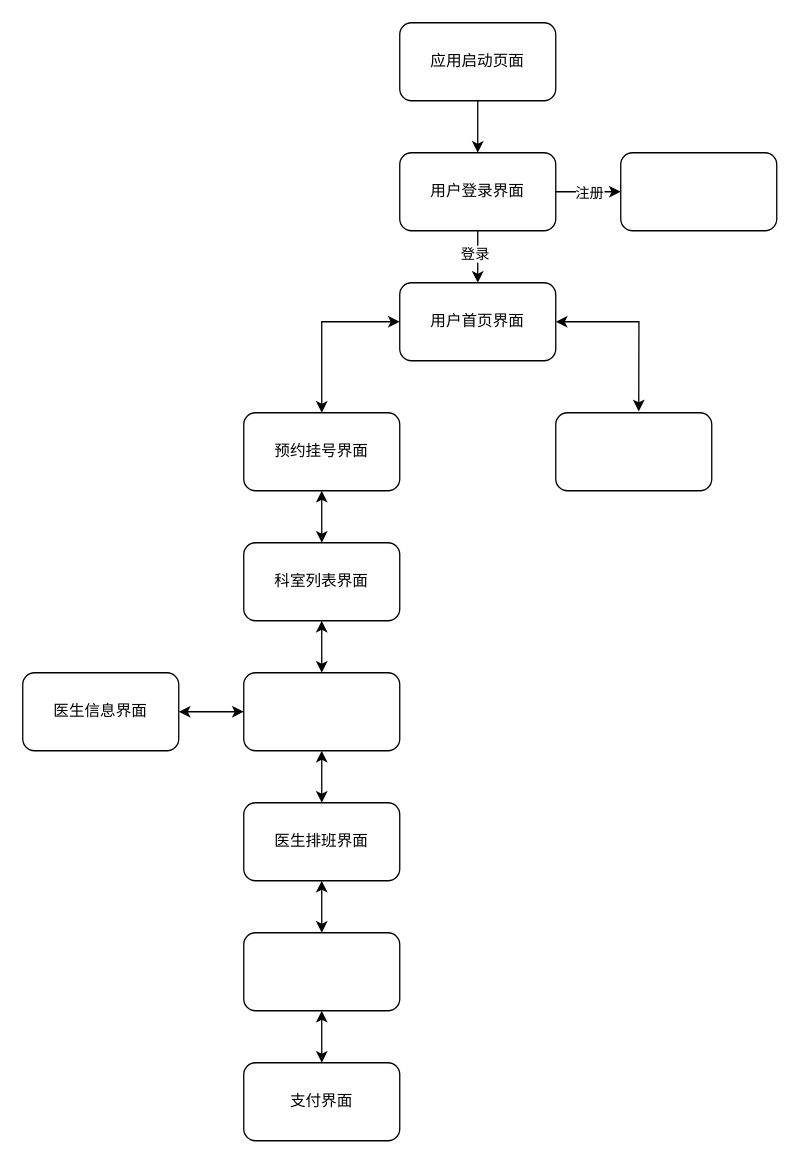
The diagram is 800 pixels wide and 1164 high, and some of its shapes have lost their labels. The shapes that lost their labels are listed below. From the top down, each one's box as (x1, y1, x2, y2) in pixels, then its label:
(619, 151, 777, 231): 用户注册界面
(554, 411, 712, 491): 个人信息界面
(242, 671, 400, 751): 医生列表界面
(242, 931, 400, 1011): 挂号信息界面
